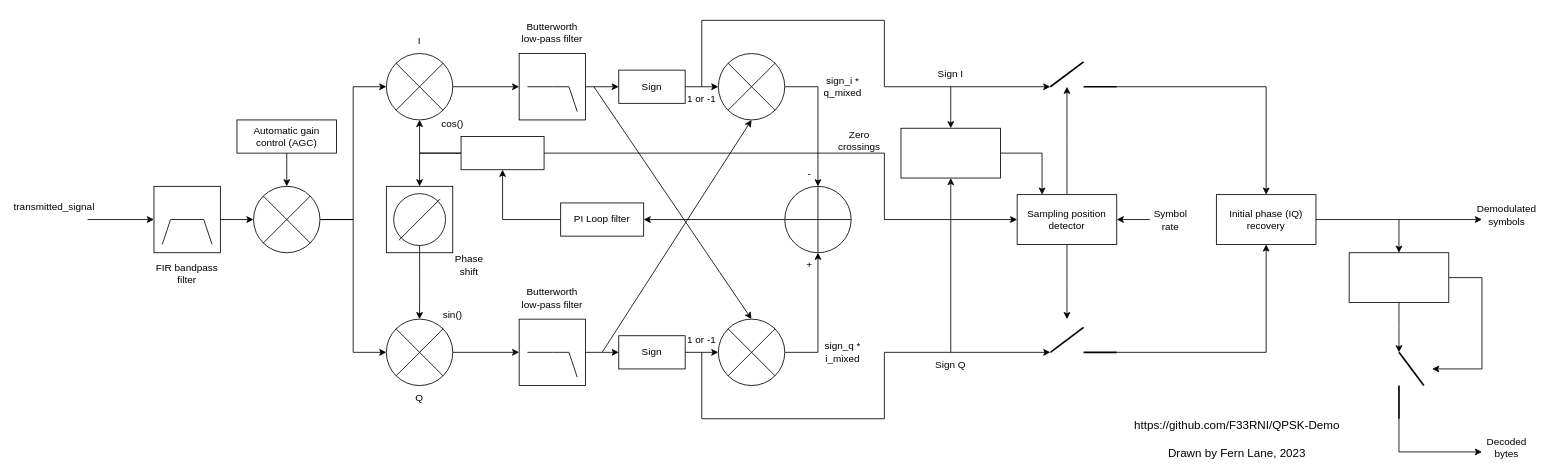
This 1550x475 diagram has some shape labels left out. The box of each missing label's shape, as (x1, y1, x2, y2) in pixels:
Byte buffer: (1348, 252, 1449, 303)
NCO: (460, 136, 544, 170)
Phase change detection: (900, 127, 1001, 178)
